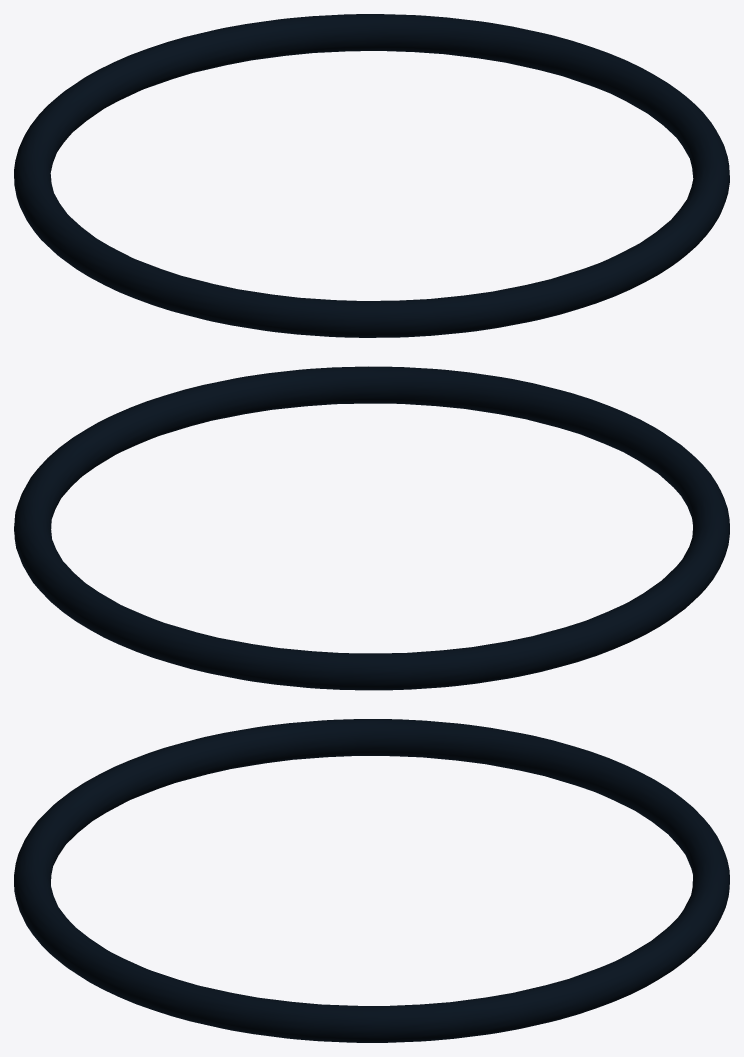
3 renders of one model, top to bottom at view 1: azimuth 30°, elevation 25°; view 2: azimuth 150°, elevation 25°; view 3: azimuth 270°, elevation 25°, orthographic.
Parts seen in each view (by area): view 1: Torus; view 2: Torus; view 3: Torus.
Part boxes in pixels (box(x1,y1,x2,y2)): Torus: box(14, 14, 729, 337); Torus: box(14, 366, 729, 690); Torus: box(14, 719, 729, 1042).
Size of the model in its own units: 54.56 by 54.56 by 2.82.
